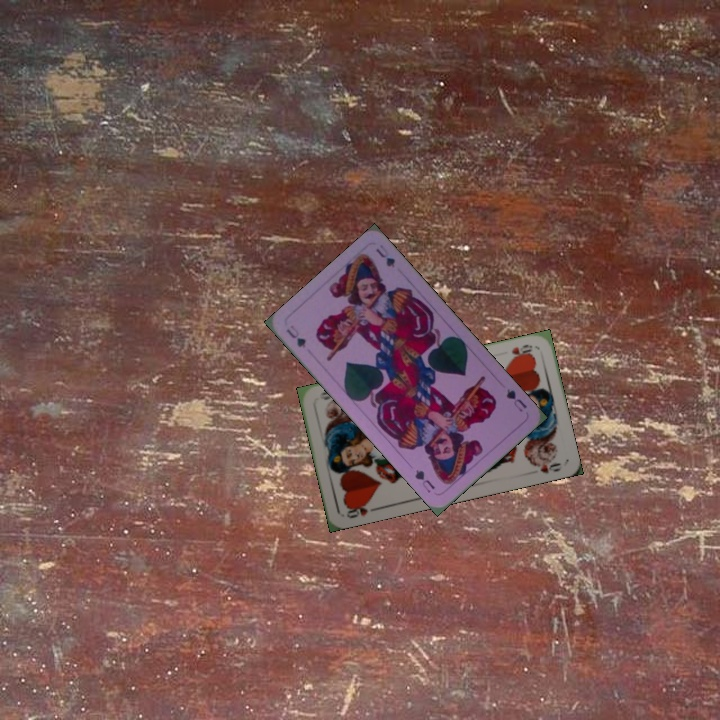GU: (502, 384, 530, 415), (282, 321, 308, 351)
HO: (342, 498, 381, 521), (506, 340, 535, 362)
